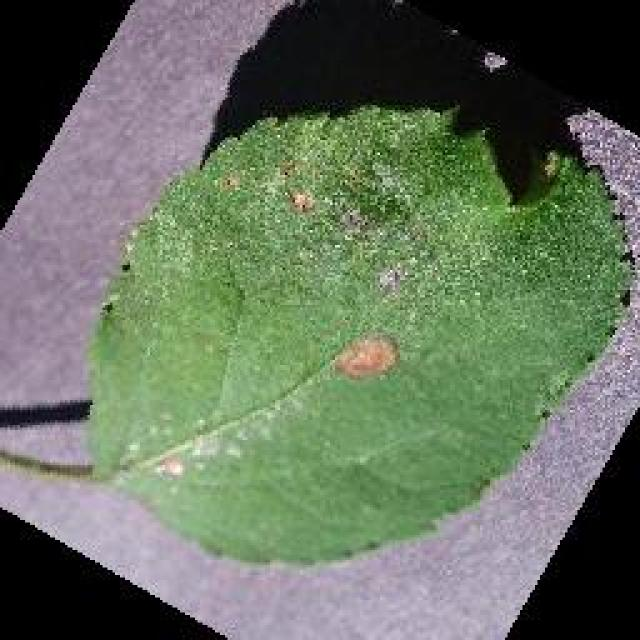Black_rot: (82, 98, 638, 570)
